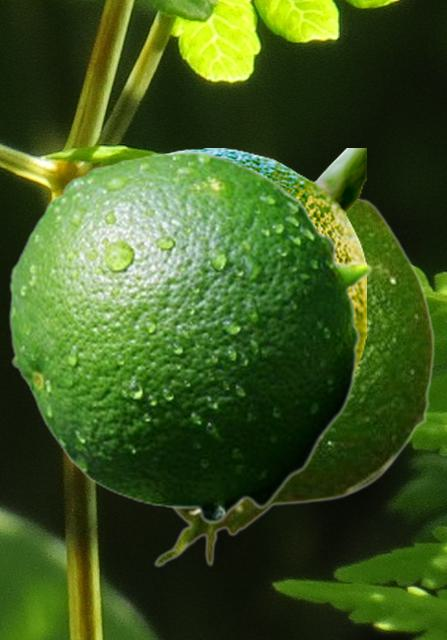dalandan: (8, 149, 372, 524), (153, 197, 434, 567), (144, 148, 365, 505)
